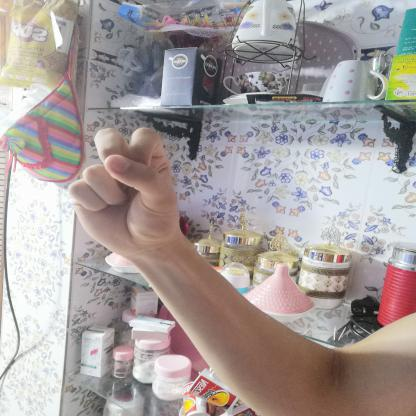QAAF: (54, 115, 196, 266)
